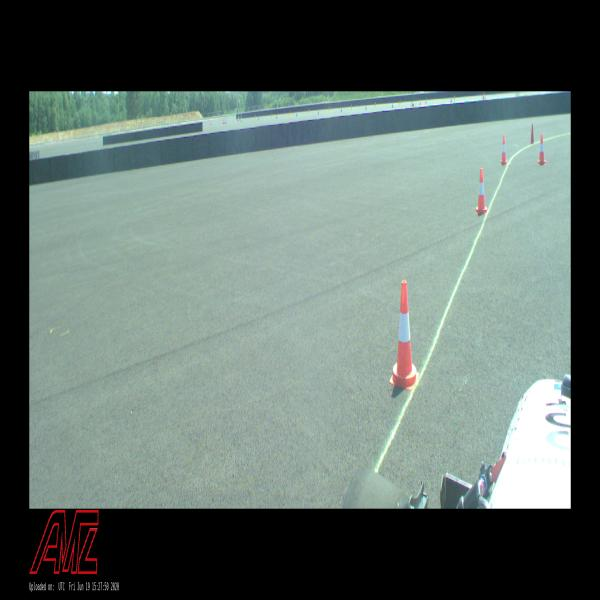orange_cone: (390, 280, 419, 390), (475, 169, 487, 214), (537, 132, 546, 164), (500, 136, 507, 164)
